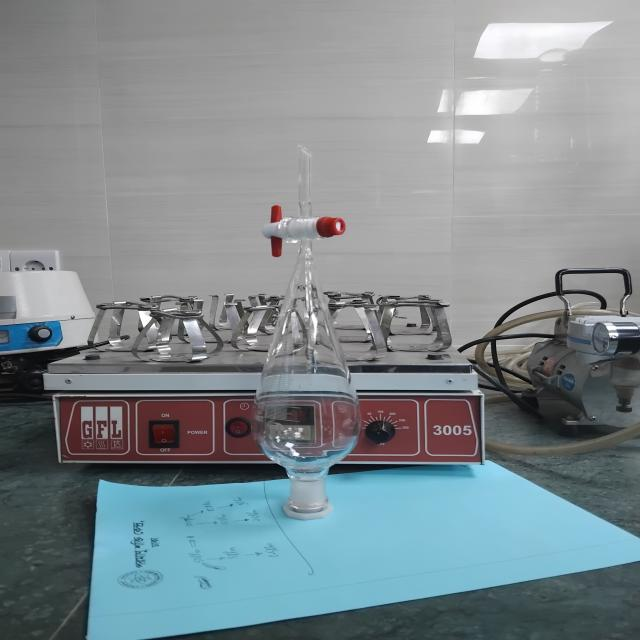Separating_Funnel: (224, 138, 400, 542)
